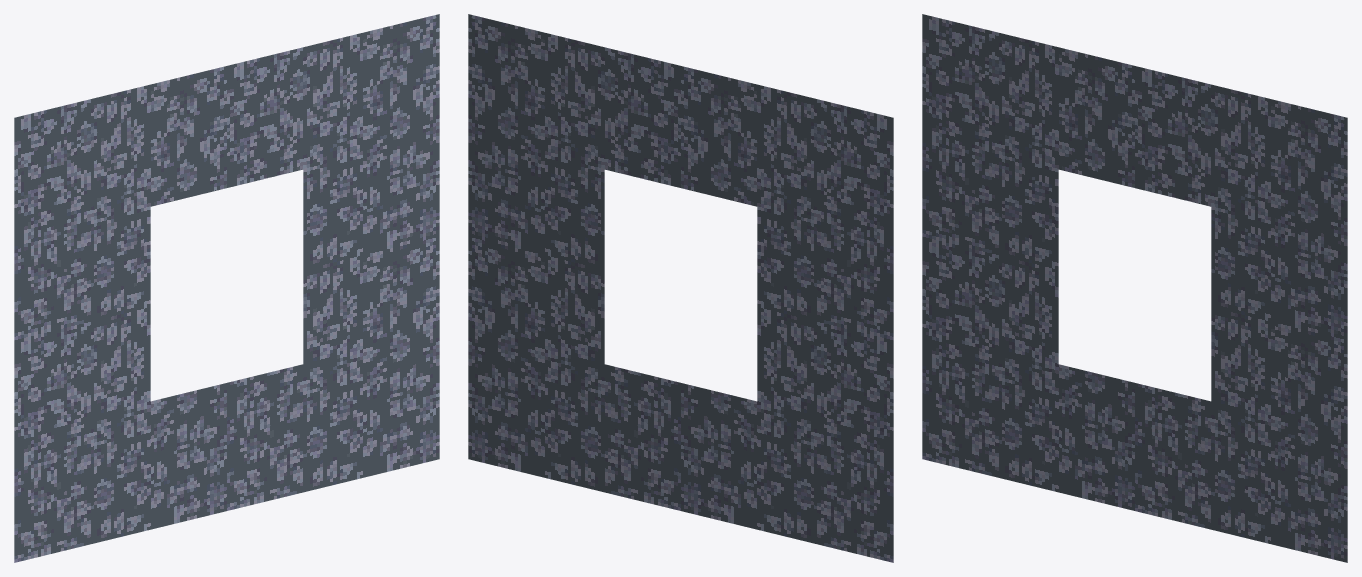
Rendered from wallWindowWallpaper.glb.
3 renders of one model, left to right at view 1: azimuth 30°, elevation 25°; view 2: azimuth 150°, elevation 25°; view 3: azimuth 330°, elevation 25°, orthographic.
Visible parts, largest first — view 1: wallWindowWallpaper; view 2: wallWindowWallpaper; view 3: wallWindowWallpaper.
Part boxes in pixels (box(x1,y1,x2,y2)): wallWindowWallpaper: box(14, 14, 439, 562); wallWindowWallpaper: box(468, 14, 893, 562); wallWindowWallpaper: box(922, 14, 1347, 562).
Size of the model in its own units: 4 by 4 by 1.19e-07.
Materials: 1 (1 with a texture image).
